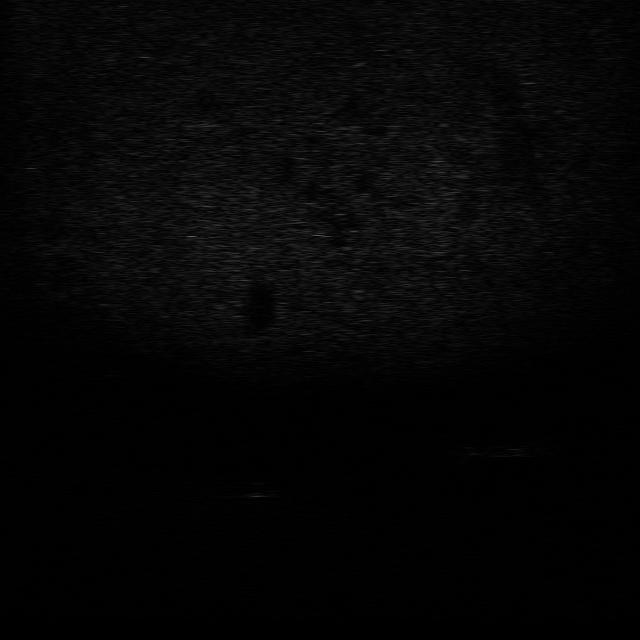ball: (234, 479, 282, 501)
human body: (451, 436, 560, 467)
